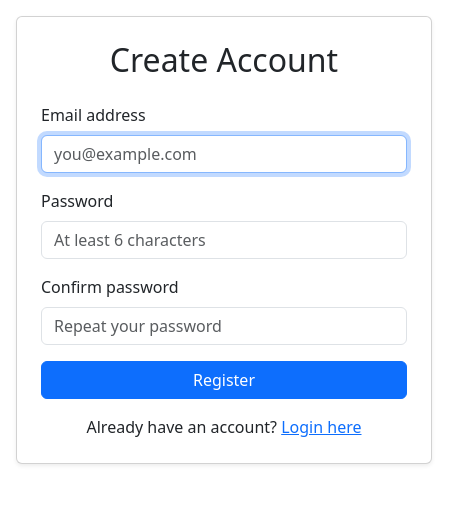
Scenario: RegisterPage › displays password mismatch error
This screenshot has width=449, height=508.
Type "test@test.com" into the field labelled "Email address" at (224, 154), box [41,135,407,173]
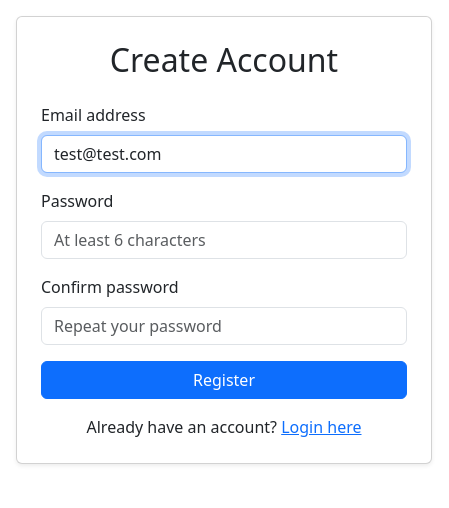
Type "password123" into the password field labelled "Password" at (224, 240), box [41,221,407,259]
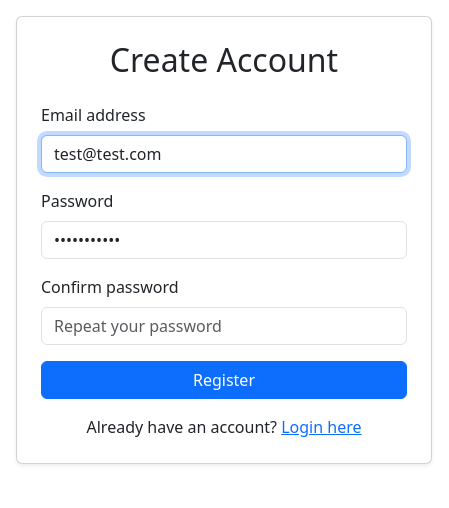
Type "different" into the password field labelled "Confirm password" at (224, 326), box [41,307,407,345]
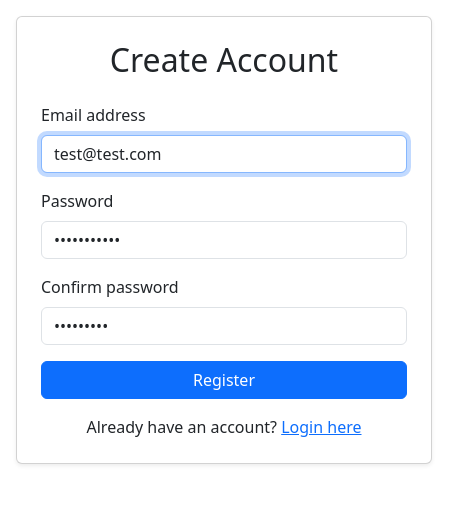
Click the button "Register" at (224, 380), box [41,361,407,399]
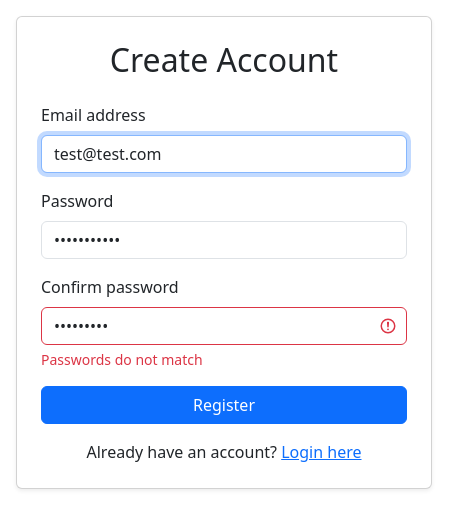
Result: the text "Passwords do not match" is shown at [41,350,203,369]
